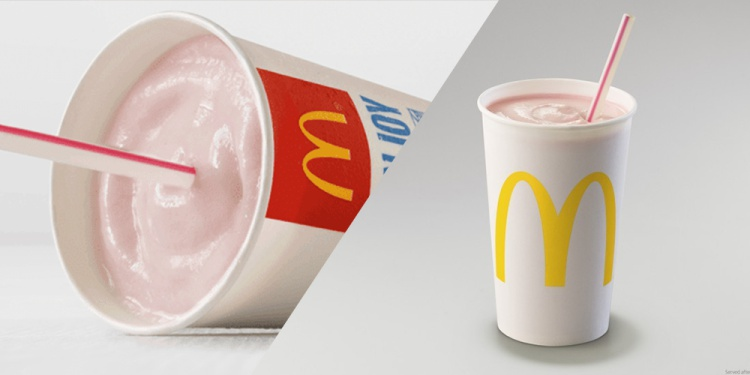mcdonalds: (492, 167, 618, 288), (295, 105, 358, 202)
